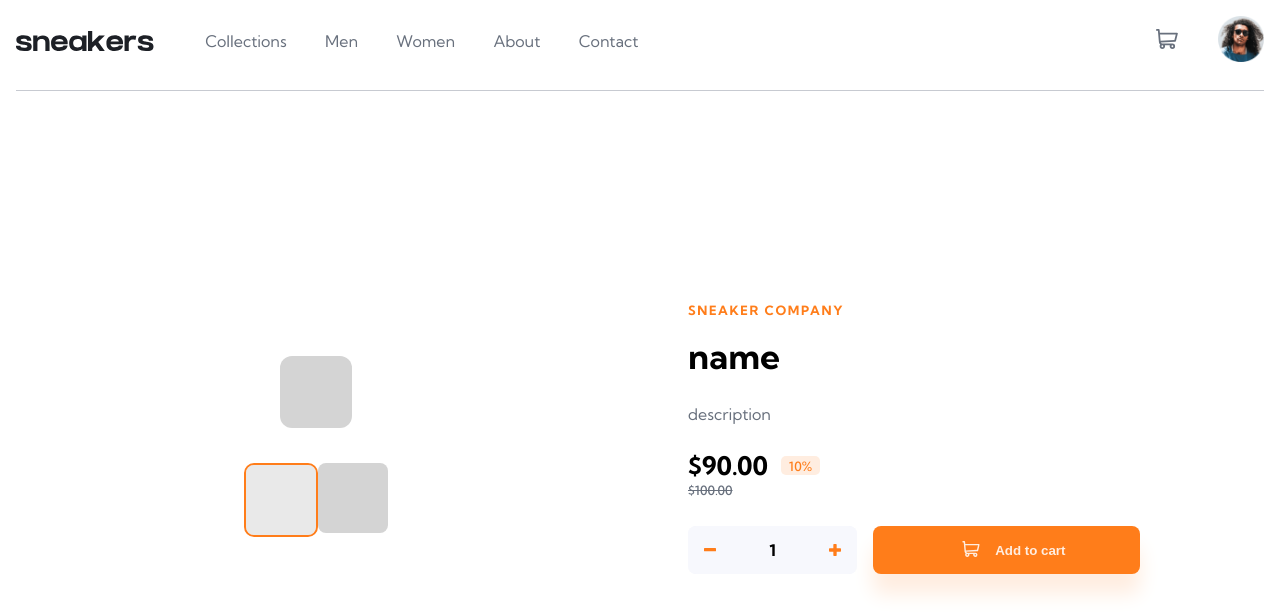
Scenario: <App /> › renders a cart button that opens after user selection
The image size is (1283, 615).
What coordinates should you click on to do the following:
click the button named "open shopping cart"
I would click on:
 (1167, 40)
Its box is [1156,29,1178,52].
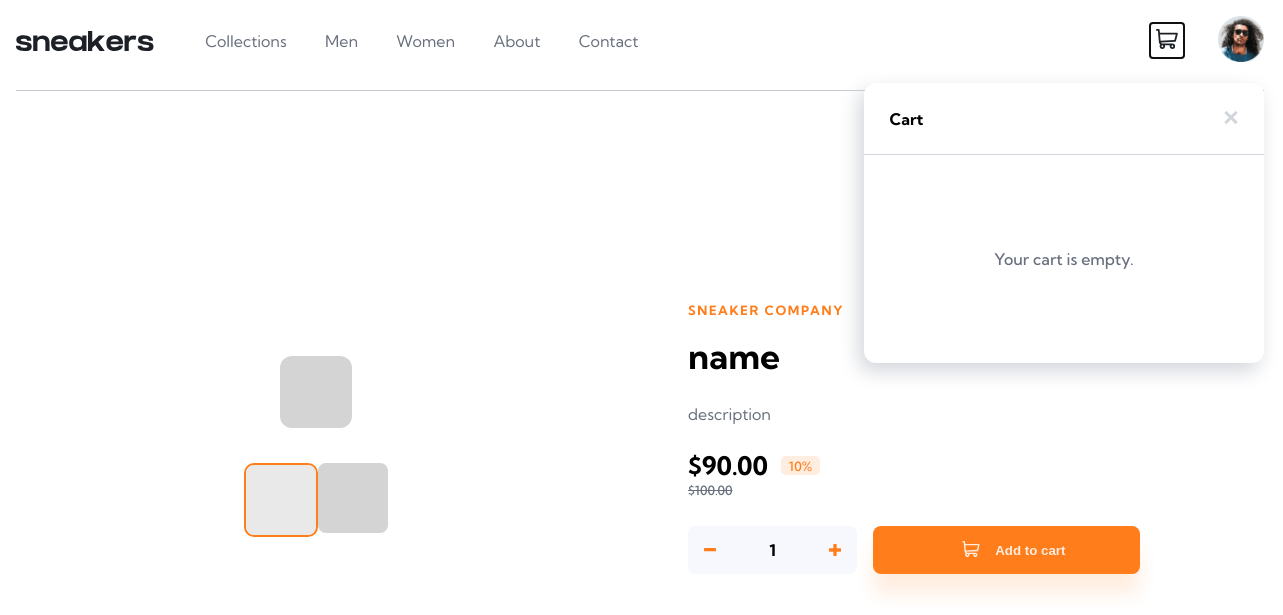
Check: the heading "Cart" is shown, box [890,109,923,129]
